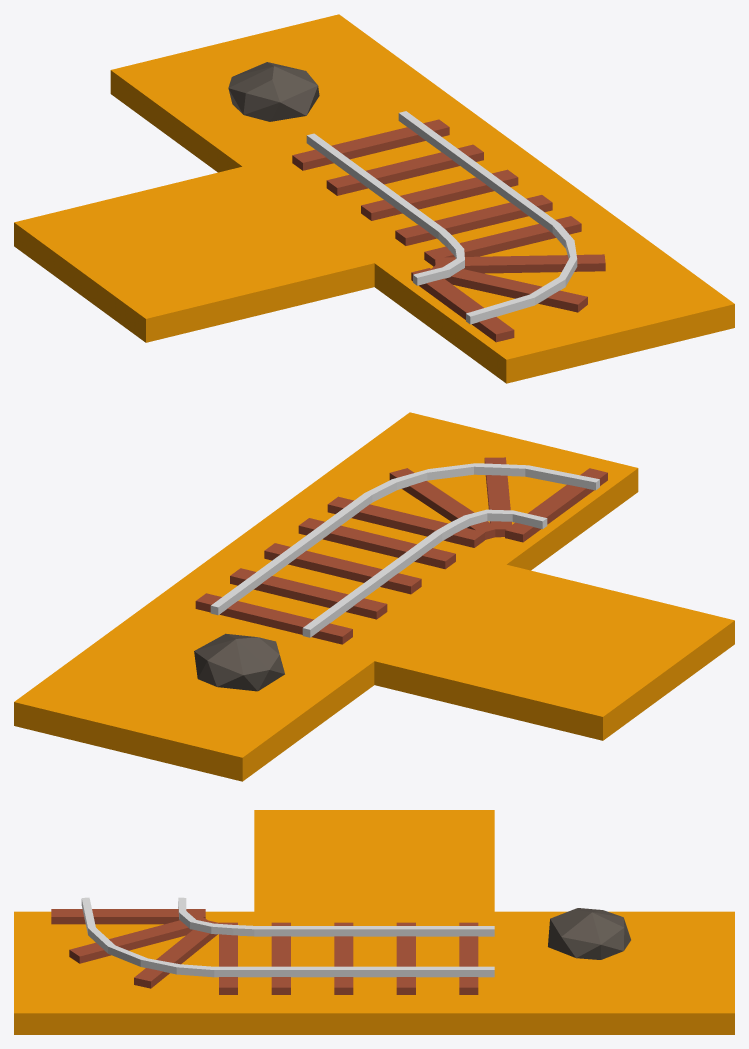
The model's file is tileset.glb.
The picture shows the model from 3 angles, top to bottom: view 1: azimuth 30°, elevation 25°; view 2: azimuth 150°, elevation 25°; view 3: azimuth 270°, elevation 25°; orthographic projection. The views are drawn at different scales.
Parts seen in each view (by area): view 1: base.003, rockBase, base.002, base.001, traverses, rails, rockMesh, traverses.004, rails.002, traverses.001, traverses.002, traverses.003 (+1 smaller); view 2: base.003, rockBase, base.002, base.001, traverses, rails, rockMesh, rails.002, traverses.001, traverses.003, traverses.004, rails.001 (+1 smaller); view 3: rockBase, base.003, base.002, base.001, rails, traverses, rockMesh, rails.002, traverses.003, traverses.002, traverses.004, rails.001 (+1 smaller).
Boxes of the visible parts, <box> form: base.003: <box>14,166,374,342</box>; rockBase: <box>110,14,470,172</box>; base.002: <box>374,207,734,383</box>; base.001: <box>243,111,602,286</box>; traverses: <box>292,119,552,245</box>; rails: <box>306,111,537,239</box>; rockMesh: <box>228,62,319,121</box>; traverses.004: <box>435,254,605,273</box>; rails.002: <box>466,207,577,324</box>; traverses.001: <box>424,216,581,266</box>; traverses.002: <box>429,264,587,312</box>; traverses.003: <box>411,268,514,342</box>; base.003: <box>374,564,734,740</box>; rockBase: <box>14,605,374,781</box>; base.002: <box>278,412,638,570</box>; base.001: <box>146,509,505,660</box>; traverses: <box>195,518,455,644</box>; rails: <box>210,509,442,637</box>; rockMesh: <box>194,633,284,691</box>; rails.002: <box>343,463,599,518</box>; traverses.001: <box>327,496,484,547</box>; traverses.003: <box>505,468,607,542</box>; traverses.004: <box>389,468,497,539</box>; rails.001: <box>435,509,547,540</box>; rockBase: <box>494,911,734,1034</box>; base.003: <box>254,810,494,911</box>; base.002: <box>14,911,254,1034</box>; base.001: <box>254,911,494,1034</box>; rails: <box>254,926,494,977</box>; traverses: <box>271,922,478,994</box>; rockMesh: <box>548,908,630,959</box>; rails.002: <box>81,897,254,977</box>; traverses.003: <box>51,909,205,924</box>; traverses.002: <box>69,917,207,963</box>; traverses.004: <box>134,920,221,988</box>; rails.001: <box>178,897,254,936</box>.
Size of the model in its own units: 4 by 0.5395 by 6.
4 materials, 3 textured.
